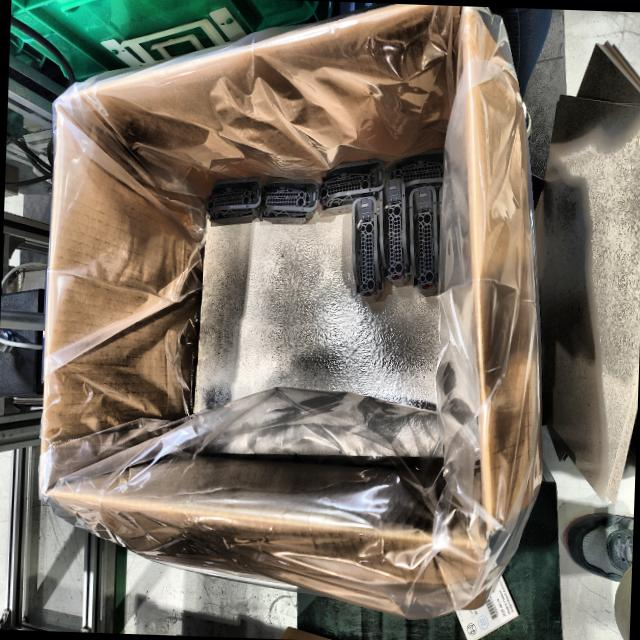P38: (351, 195, 385, 301), (380, 177, 413, 285), (318, 158, 384, 212), (408, 181, 439, 295), (205, 175, 262, 224), (259, 176, 318, 223), (385, 147, 443, 185)
